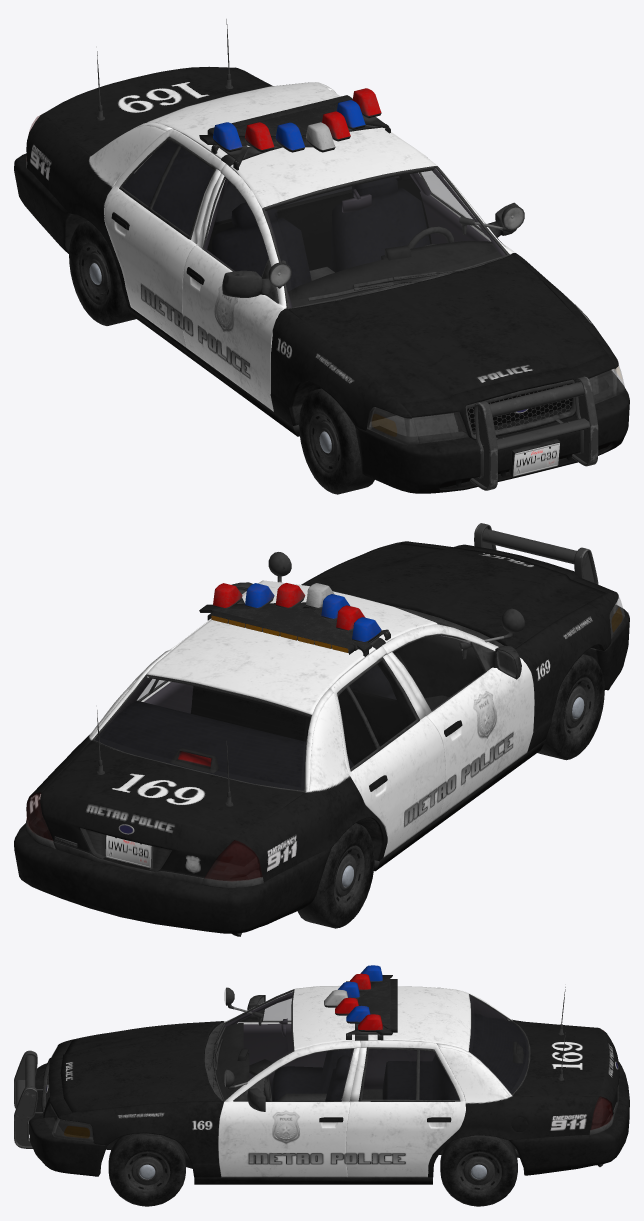
The picture shows the model from 3 angles, top to bottom: view 1: azimuth 30°, elevation 25°; view 2: azimuth 150°, elevation 25°; view 3: azimuth 270°, elevation 25°; orthographic projection. The views are drawn at different scales.
Parts seen in each view (by area): view 1: glass_low, fs_vector_bulbs_base_low; view 2: glass_low, fs_vector_bulbs_base_low; view 3: glass_low, fs_vector_bulbs_base_low.
Boxes of the visible parts, box(x1,y1,x2,y2) form: glass_low: box(14, 19, 629, 494); fs_vector_bulbs_base_low: box(199, 88, 390, 170); glass_low: box(14, 523, 629, 936); fs_vector_bulbs_base_low: box(199, 583, 390, 656); glass_low: box(14, 985, 629, 1206); fs_vector_bulbs_base_low: box(324, 965, 397, 1040).
Bounding box in the file's own units: 2.64 × 2.03 × 6.62.
Materials: 7 (7 with a texture image).
